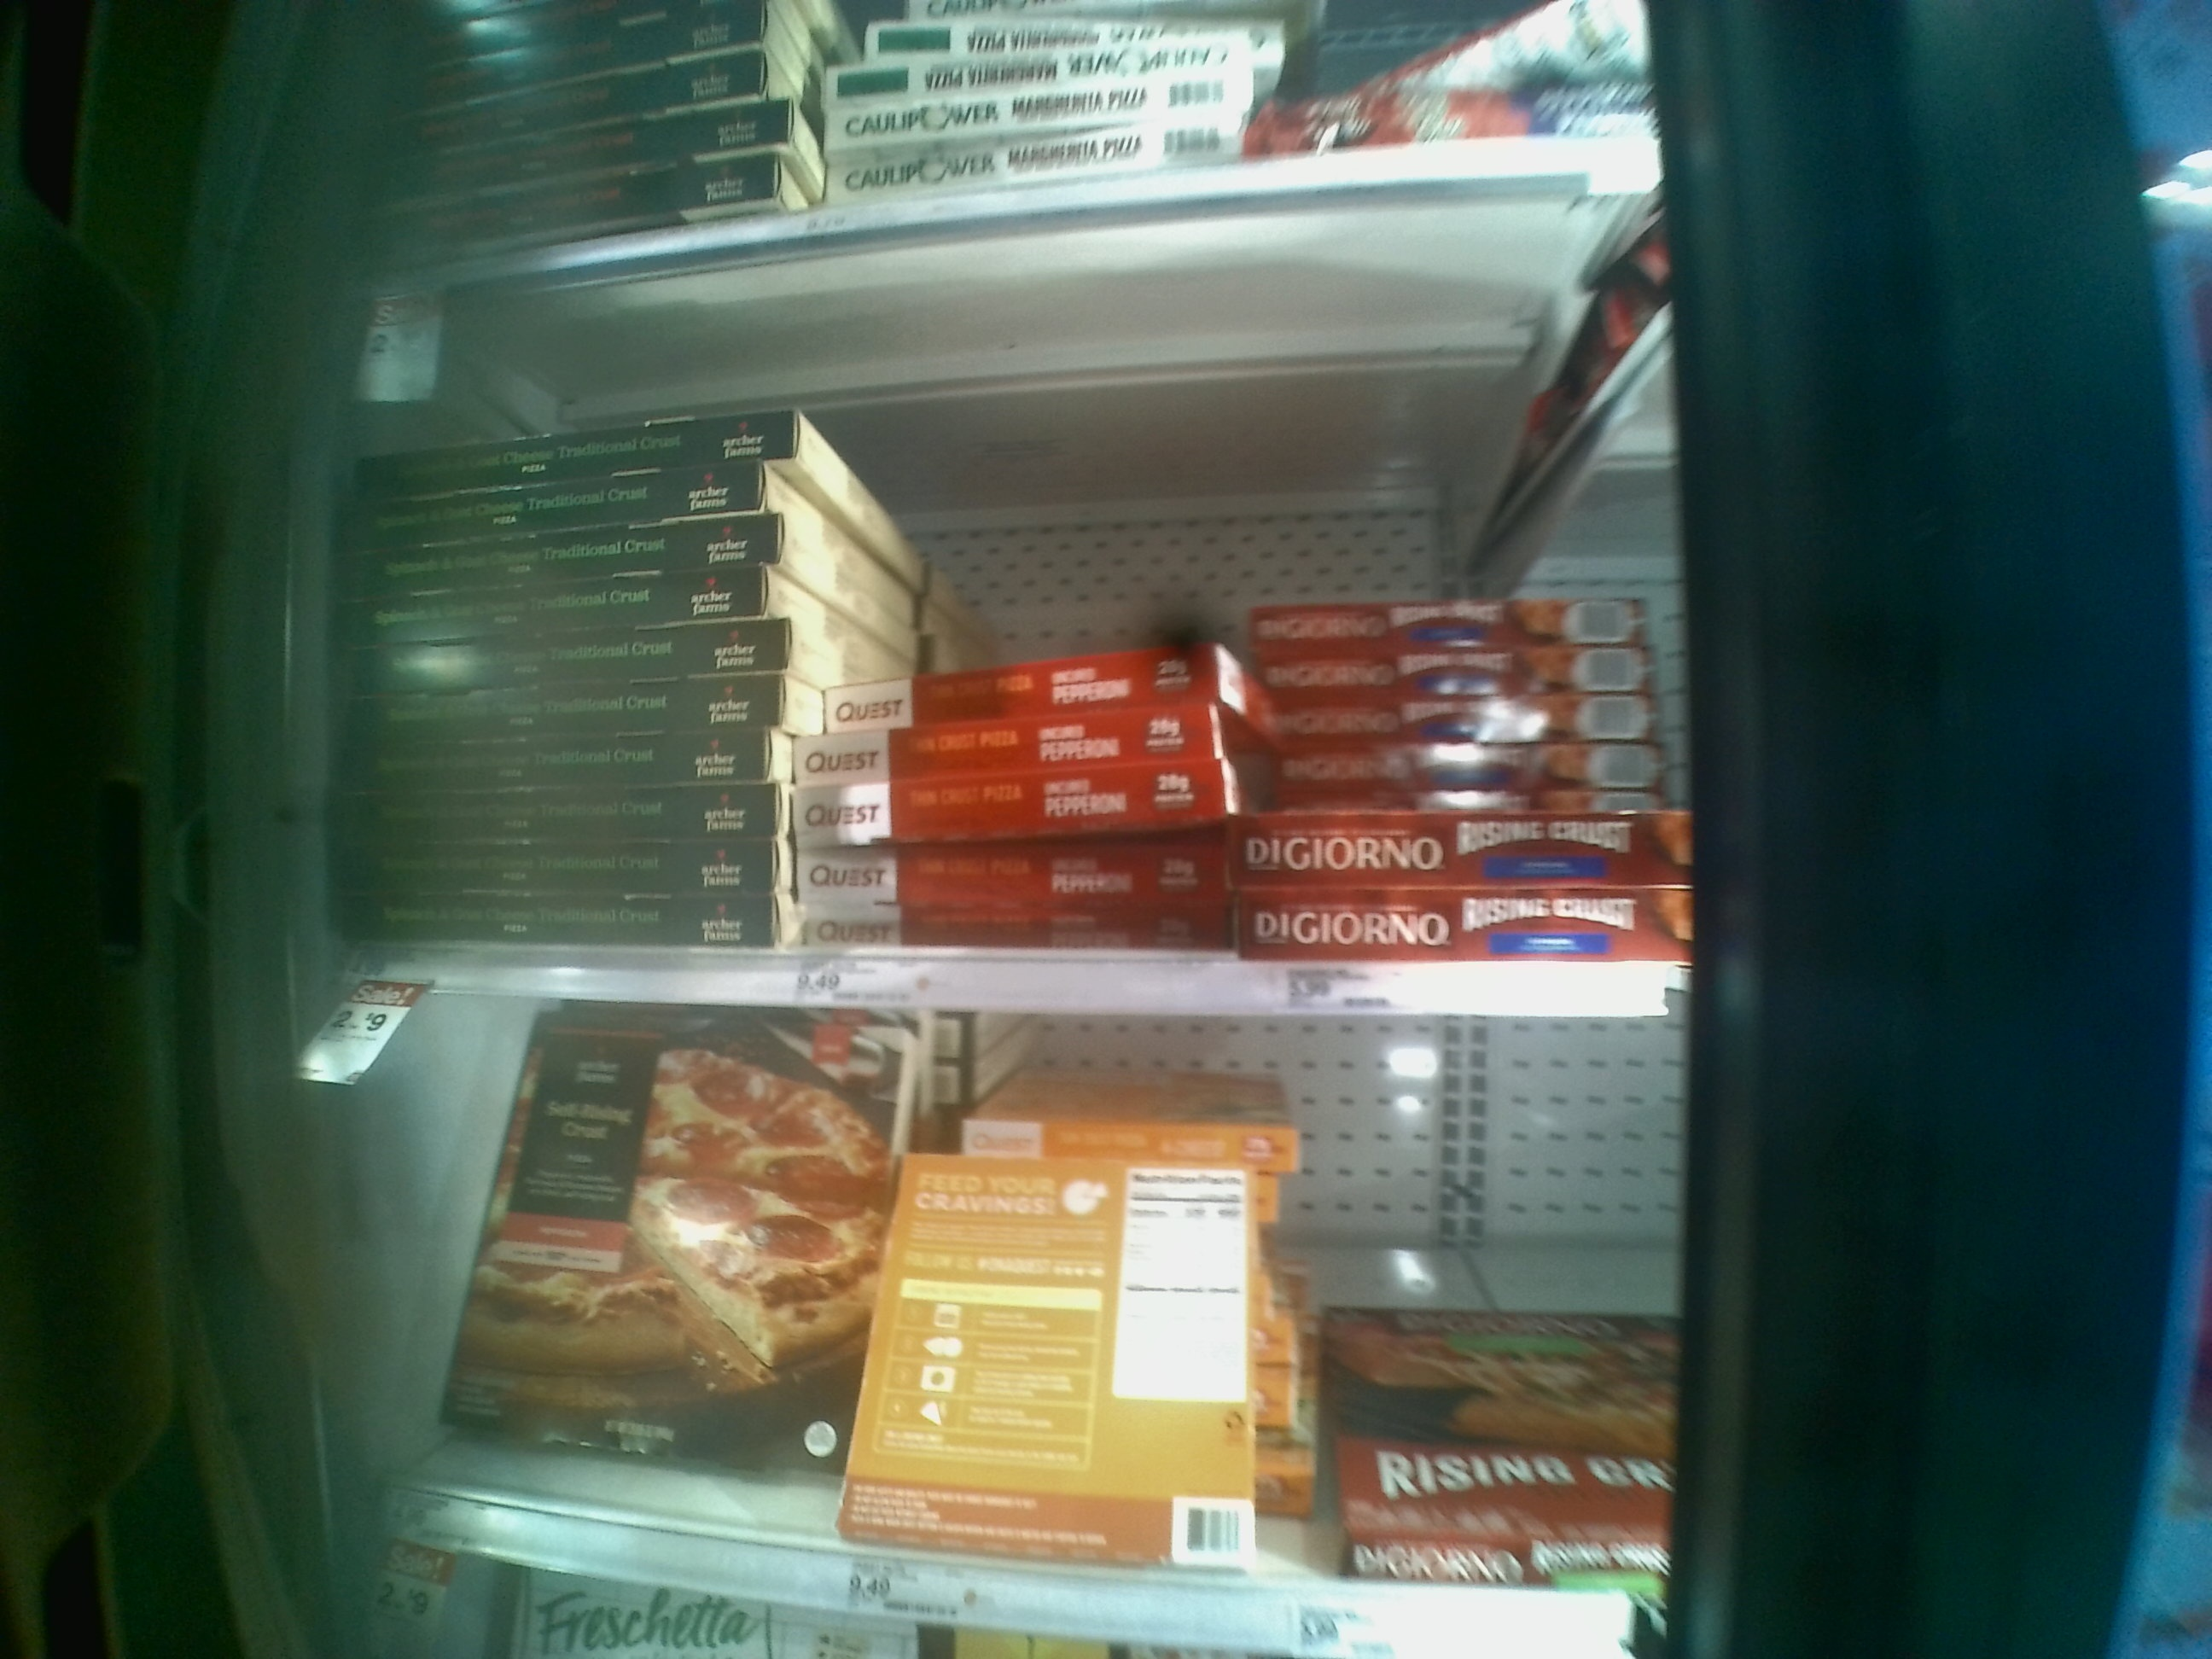shelf: (340, 265, 1681, 1018), (371, 972, 1702, 1659)
